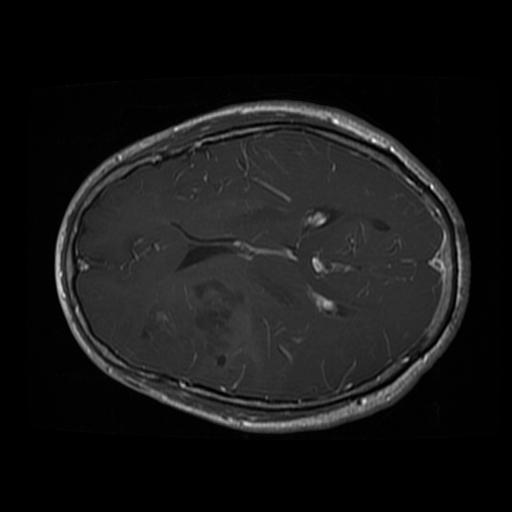glioma: (137, 258, 265, 382)
